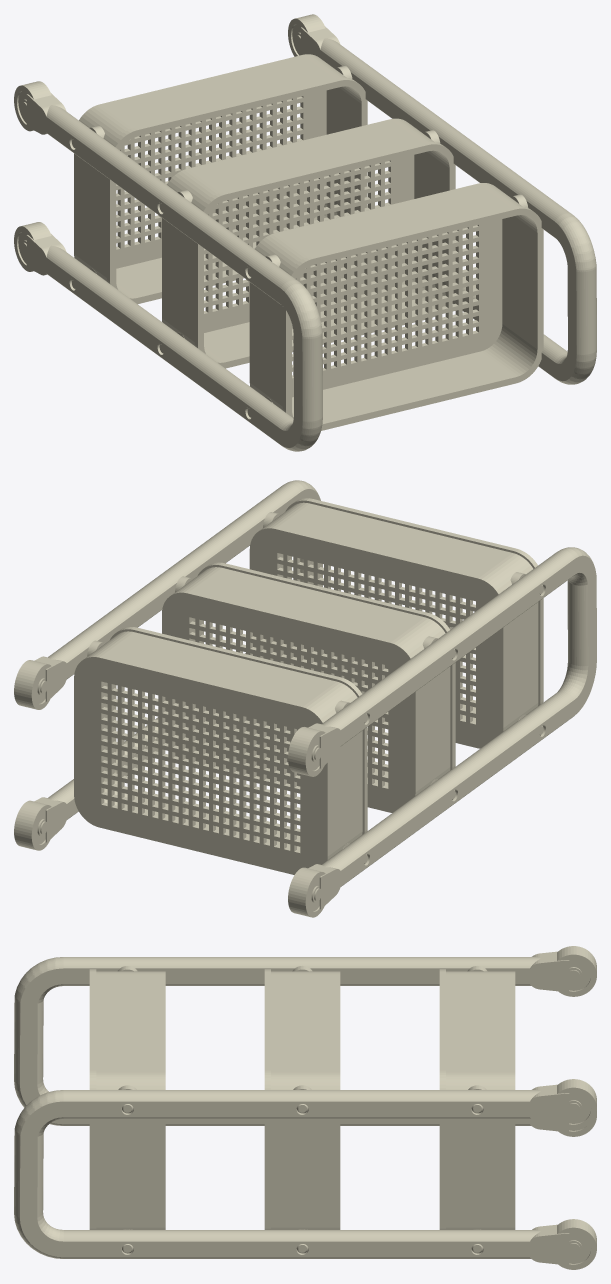
Rendered from assembly_preview.glb.
3 views of the same model, one above another, from view 1: azimuth 30°, elevation 25°; view 2: azimuth 150°, elevation 25°; view 3: azimuth 270°, elevation 25° (orthographic).
Visible parts, largest first — view 1: geometry_0; view 2: geometry_0; view 3: geometry_0.
Part boxes in pixels (x1,y1,x2,y2): geometry_0: [14, 14, 596, 451]; geometry_0: [14, 480, 596, 917]; geometry_0: [14, 946, 596, 1269].
Size of the model in its own units: 116 by 69 by 200.
